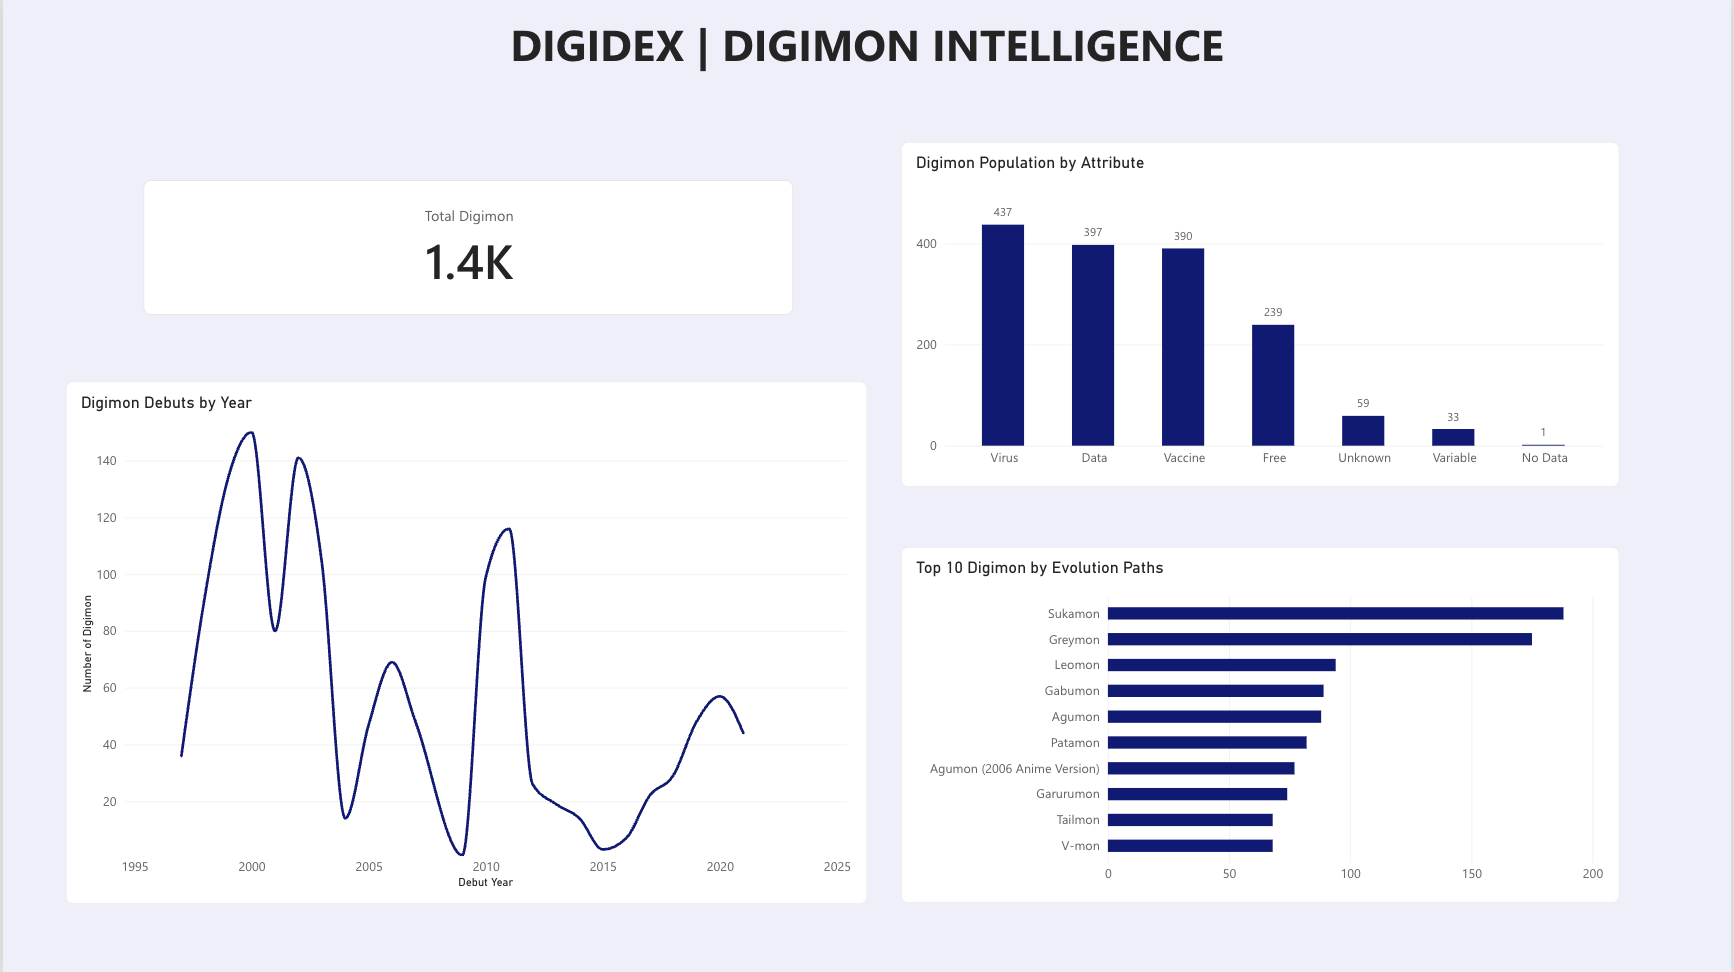

The page's visual inventory and layout, read from the dashboard file:
{"tool":"powerbi","page":{"name":"Digimon Intelligence","canvas":[1920,1080],"ordinal":2},"visuals":[{"type":"lineChart","title":"Digimon Debuts by Year","fields":{"Category":["DimDigimon.DebutYear"],"Y":["Count(DimDigimon.DigimonID)"]},"box":[70,423.3,890,580],"z":0},{"type":"clusteredBarChart","title":"Top 10 Digimon by Evolution Paths","fields":{"Category":["evolutions.FromDigimonName"],"Y":["CountNonNull(evolutions.ToDigimonID)"]},"box":[997.5,607.5,797.5,395],"z":1000},{"type":"clusteredColumnChart","title":"Digimon Population by Attribute","fields":{"Category":["classifications.ClassificationValue"],"Y":["CountNonNull(classifications.DigimonID)"]},"box":[997.5,157.5,797.5,382.5],"z":2000},{"type":"textbox","box":[626.7,0,910,80],"z":3000},{"type":"textbox","box":[766.7,0,810,150],"z":4000},{"type":"textbox","box":[1296.7,0,70,80],"z":5000},{"type":"textbox","box":[127,607,500,395],"z":6000},{"type":"textbox","box":[230,15,500,150],"z":7000},{"type":"cardVisual","fields":{"Data":["CountNonNull(DimDigimon.DigimonID)"]},"box":[156.7,200,722.5,150],"z":8000},{"type":"textbox","box":[0,15,1920,95],"z":9000}]}

Visuals, with their boxes in screenshot pixels (x1, y1, x2, y2), scaled from the page's 1920x1080 canvas onto the 1734x972 screenshot:
"Digimon Debuts by Year" lineChart: bbox(63, 381, 867, 903)
"Top 10 Digimon by Evolution Paths" clusteredBarChart: bbox(901, 547, 1621, 902)
"Digimon Population by Attribute" clusteredColumnChart: bbox(901, 142, 1621, 486)
textbox: bbox(566, 0, 1388, 72)
textbox: bbox(692, 0, 1424, 135)
textbox: bbox(1171, 0, 1234, 72)
textbox: bbox(115, 546, 566, 902)
textbox: bbox(208, 14, 659, 148)
cardVisual - CountNonNull(DimDigimon.DigimonID): bbox(142, 180, 794, 315)
textbox: bbox(0, 14, 1733, 99)
